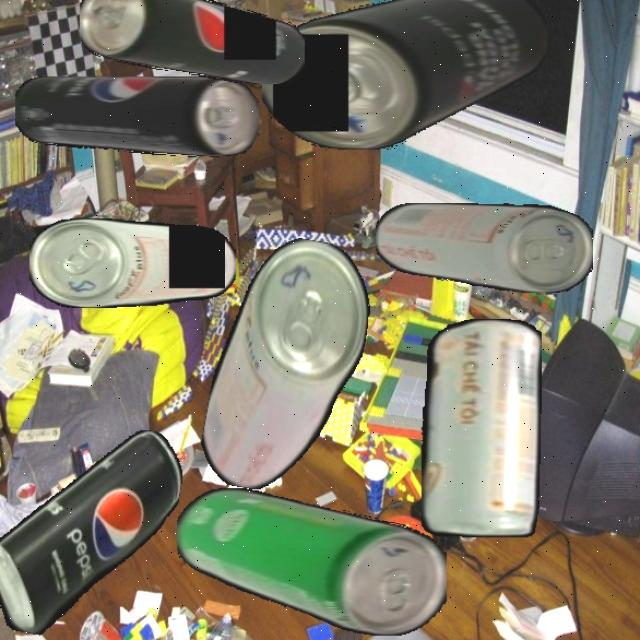debris: (196, 228, 380, 504), (0, 408, 189, 640), (262, 0, 547, 150), (176, 488, 447, 636), (421, 319, 542, 537), (14, 76, 259, 158), (375, 203, 593, 293), (29, 217, 236, 308), (80, 0, 304, 84)
